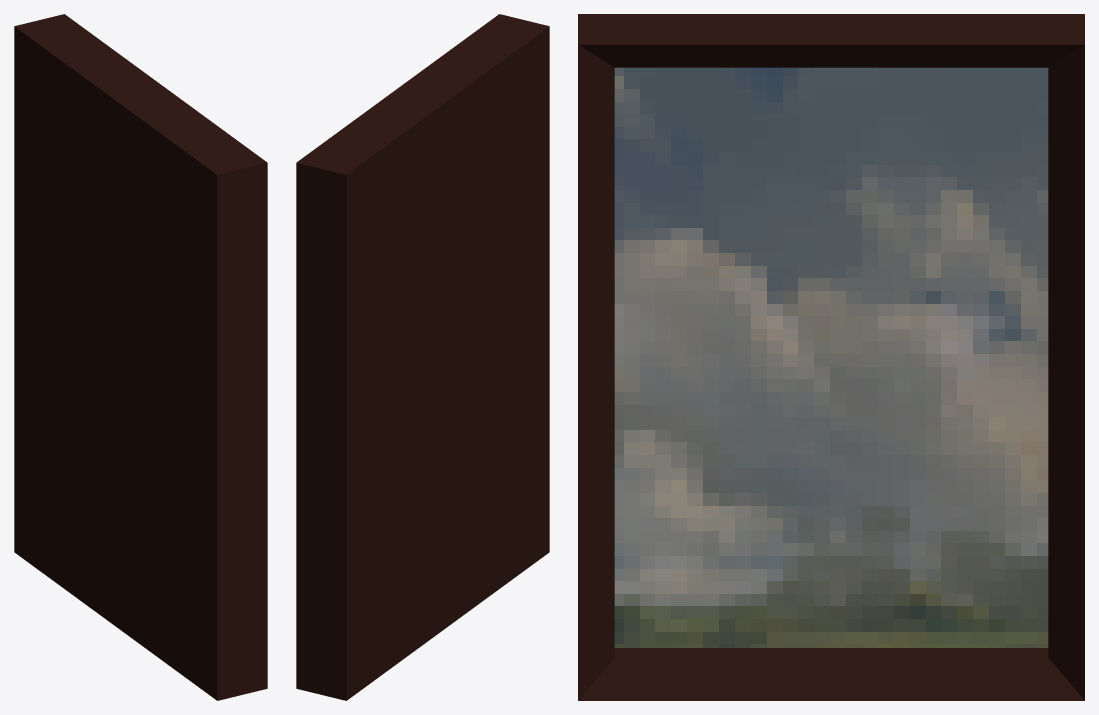
Rendered from Quadro 4.2.fbx.
3 renders of one model, left to right at view 1: azimuth 30°, elevation 25°; view 2: azimuth 150°, elevation 25°; view 3: azimuth 270°, elevation 25°, orthographic. The views are drawn at different scales.
Visible parts, largest first — view 1: Cube.036; view 2: Cube.036; view 3: Cube.036.
Part boxes in pixels (box(x1,y1,x2,y2)): Cube.036: box(14, 14, 267, 700); Cube.036: box(296, 14, 549, 700); Cube.036: box(578, 14, 1084, 700).
Bounding box in the file's own units: 5 × 50 × 35.
